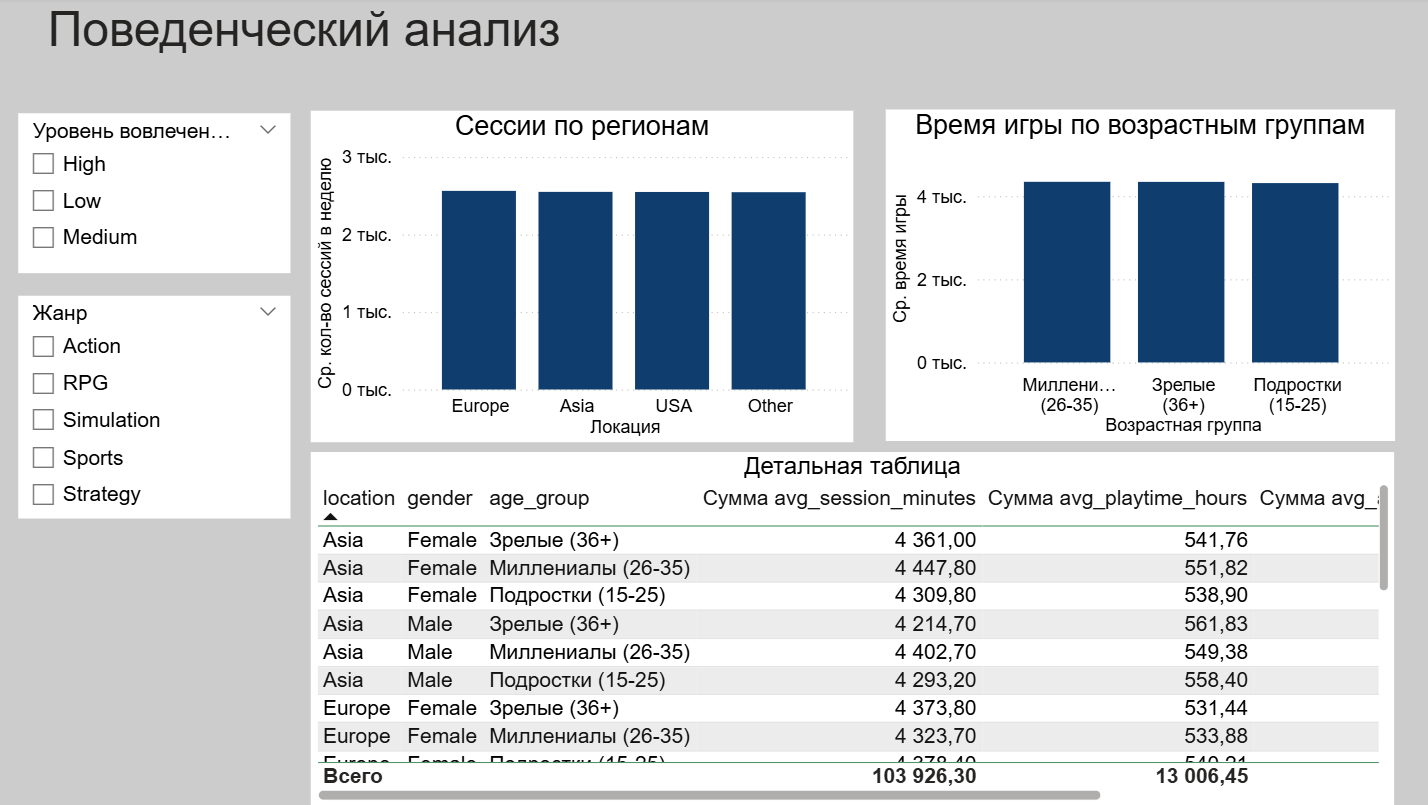

The page's visual inventory and layout, read from the dashboard file:
{"tool":"powerbi","page":{"name":"Страница 2","canvas":[1280,720],"ordinal":1},"visuals":[{"type":"textbox","box":[0,0,558.8,69.8],"z":0},{"type":"clusteredColumnChart","title":"Сессии по регионам","fields":{"Category":["public powerbi_dashboard.location"],"Y":["Sum(public powerbi_dashboard.avg_sessions_per_week)"]},"box":[279.4,101.2,483.2,295.1],"z":1000},{"type":"clusteredColumnChart","title":"Время игры по возрастным группам","fields":{"Category":["public powerbi_dashboard.age_group"],"Y":["Sum(public powerbi_dashboard.avg_playtime_hours)"]},"box":[791.1,99.8,453.3,295.1],"z":2000},{"type":"tableEx","title":"Детальная таблица","fields":{"Values":["public powerbi_dashboard.location","public powerbi_dashboard.gender","public powerbi_dashboard.age_group","Sum(public powerbi_dashboard.avg_session_minutes)","Sum(public powerbi_dashboard.avg_playtime_hours)","Sum(public powerbi_dashboard.avg_achievements)","Sum(public powerbi_dashboard.avg_player_level)"]},"box":[279.4,404.8,965,315],"z":3000},{"type":"slicer","fields":{"Values":["public powerbi_dashboard.engagementlevel"]},"box":[18.5,104.1,242.3,142.5],"z":4000},{"type":"slicer","fields":{"Values":["public powerbi_dashboard.gamegenre"]},"box":[18.5,266.5,242.3,198.1],"z":5000}]}

Visuals, with their boxes in screenshot pixels (x1, y1, x2, y2), scaled from the page's 1280x720 canvas onto the 1428x805 screenshot:
textbox: box=[0, 0, 623, 78]
"Сессии по регионам" clusteredColumnChart: box=[312, 113, 851, 443]
"Время игры по возрастным группам" clusteredColumnChart: box=[883, 112, 1388, 442]
"Детальная таблица" tableEx: box=[312, 453, 1388, 804]
slicer - public powerbi_dashboard.engagementlevel: box=[21, 116, 291, 276]
slicer - public powerbi_dashboard.gamegenre: box=[21, 298, 291, 519]
